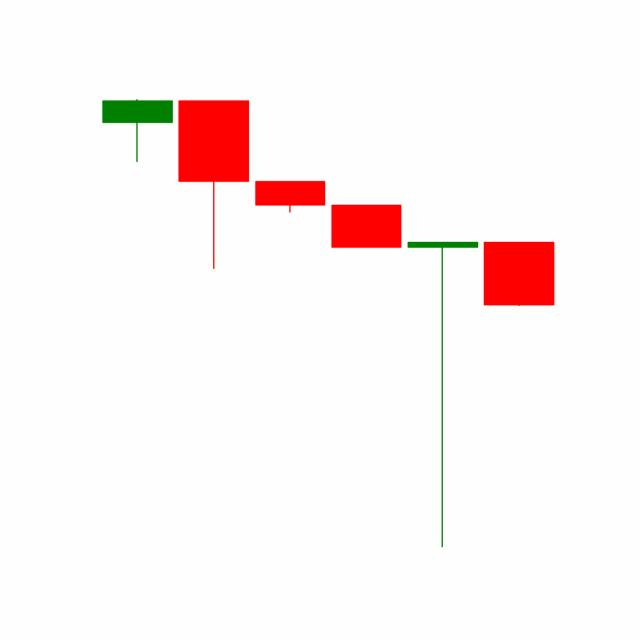Hammer: (403, 238, 481, 550)
